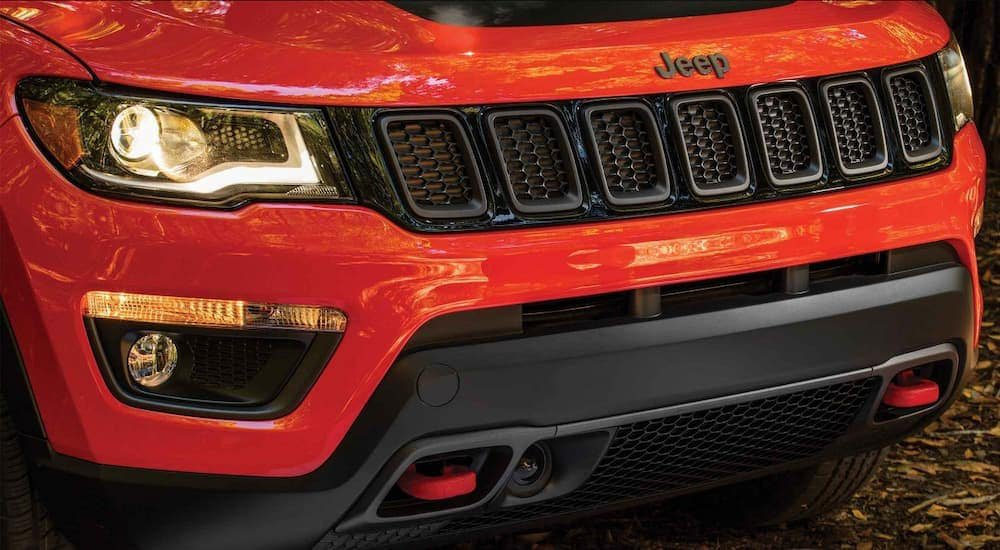car: (8, 4, 985, 535)
